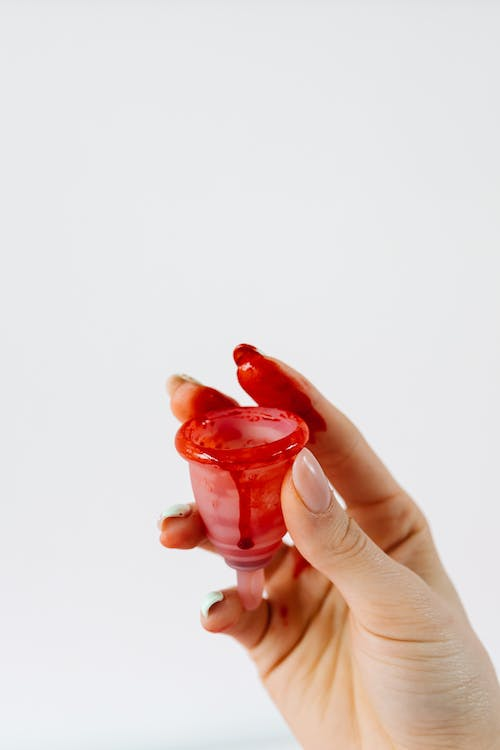blood: (172, 402, 314, 569), (188, 341, 329, 437)
